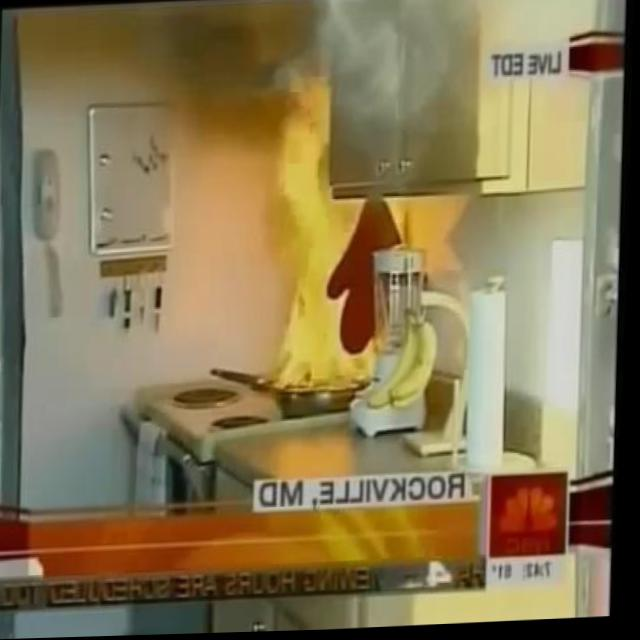fire: (272, 199, 376, 399)
